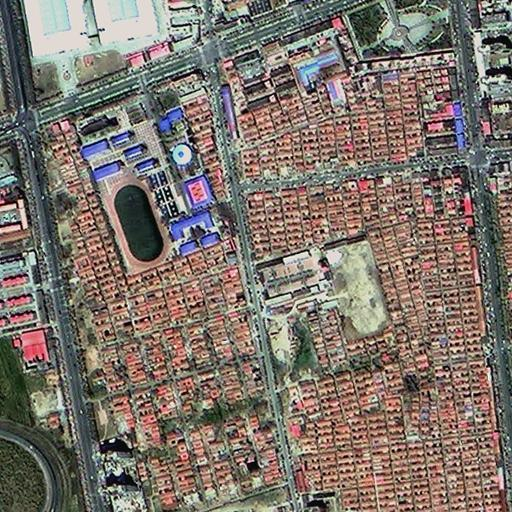school: (76, 92, 188, 270), (256, 233, 390, 339)
